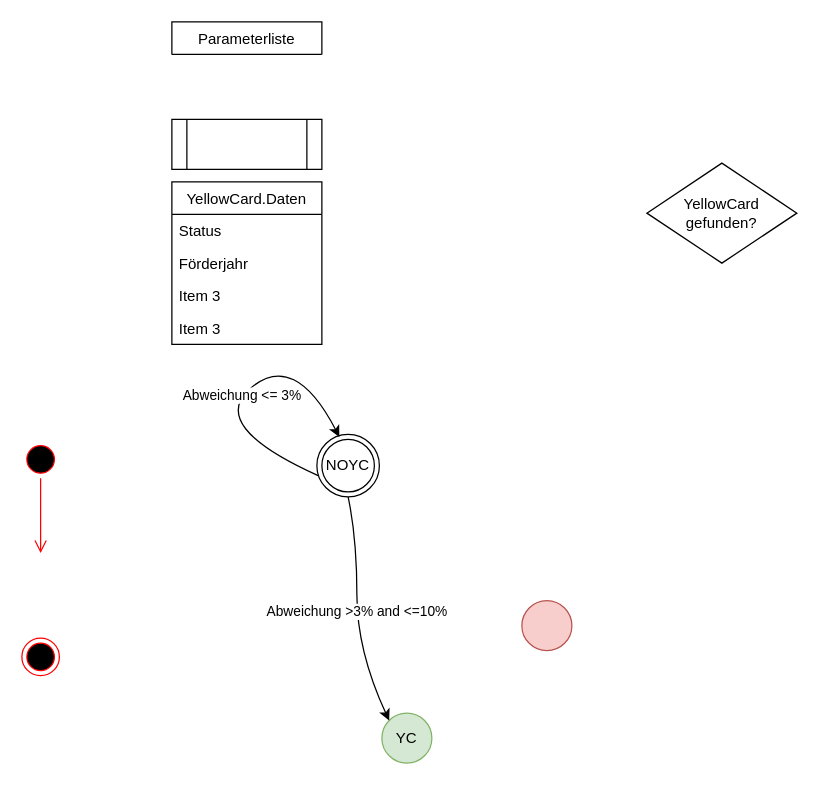
Image size: 819x785. Some labels were removed from this diagram. The centre of each missing label's shape, as x and y in pixels:
LOCK: the point at 546,625
YellowCard lesen: the point at 246,143
